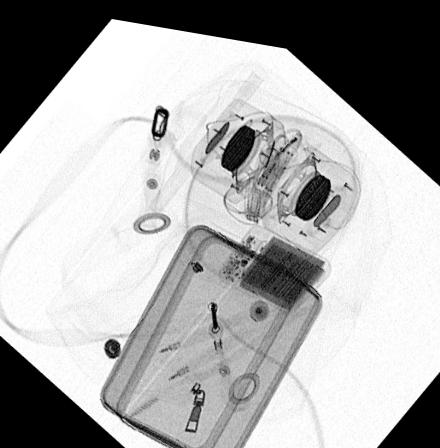Powerbank: (216, 212, 331, 306)
